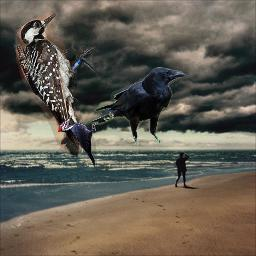Crow: (89, 67, 187, 145)
Woodpecker: (10, 8, 106, 157), (58, 115, 99, 172)
